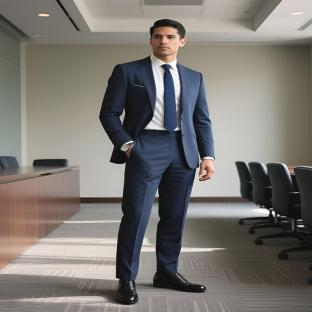Human: (100, 19, 214, 304)
